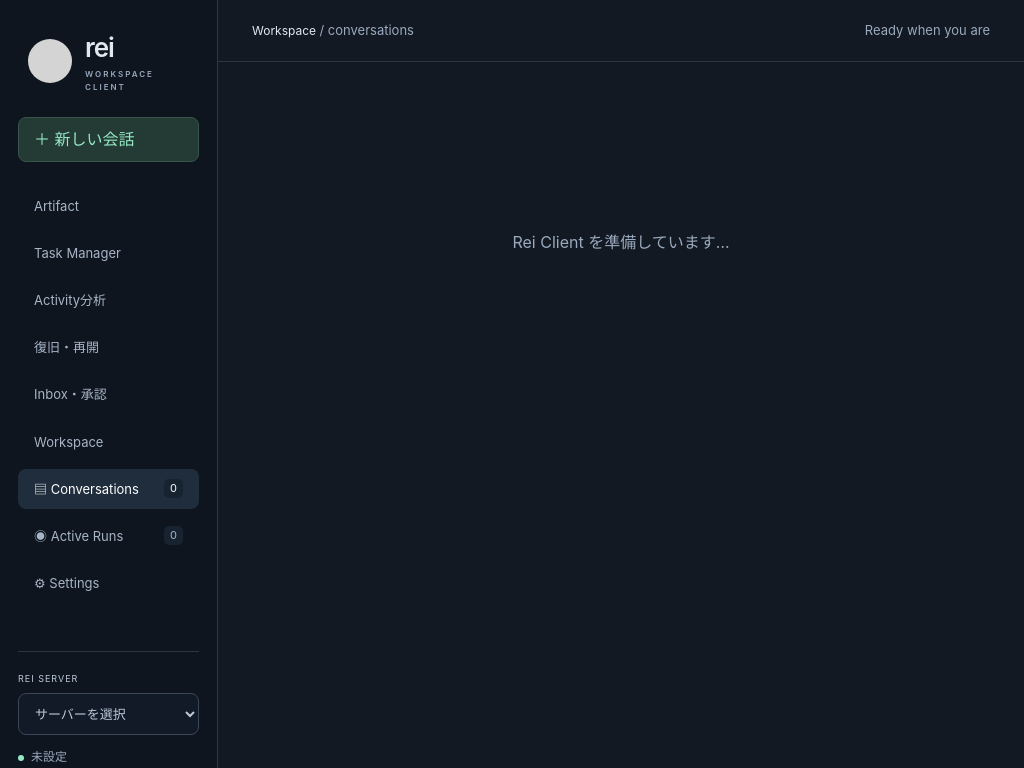
Test: opens a background run from Active Runs and retains cancellation-requested UI
Click the button "◉ Active Runs 0". click: (108, 536)
box: [18,516,199,556]
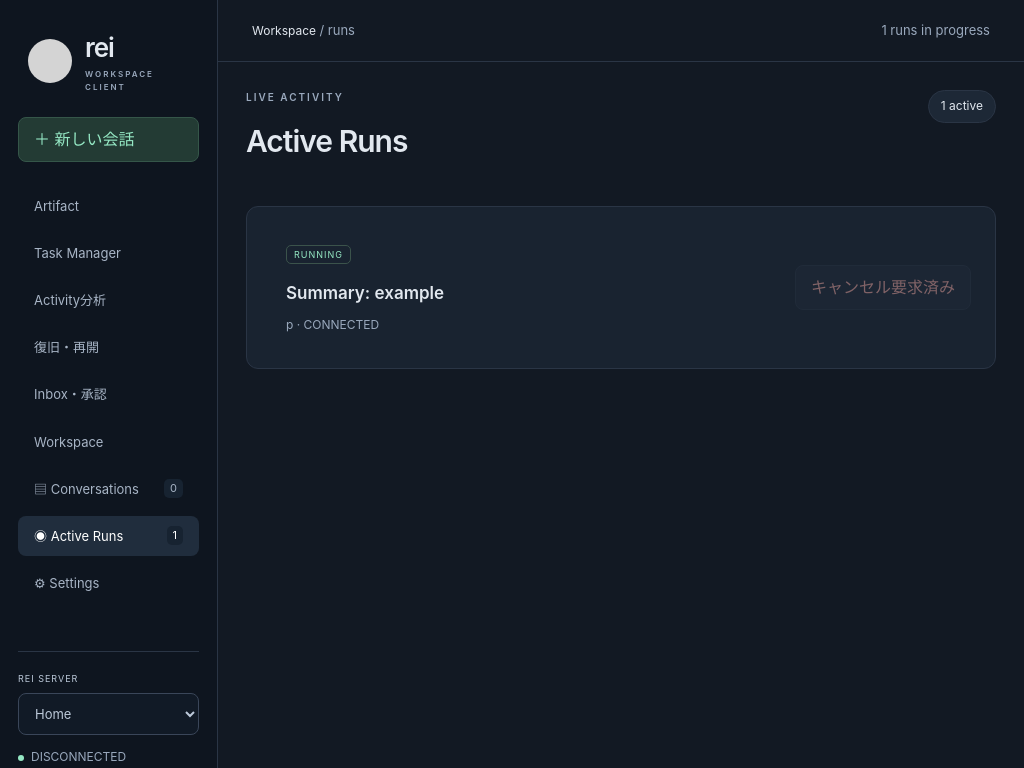
Expected: the button "キャンセル要求済み" is disabled, [795,265,971,310]
Click the button "RUNNING Summary: example p · CONNECTED". click: (318, 254)
box: [271,231,780,344]
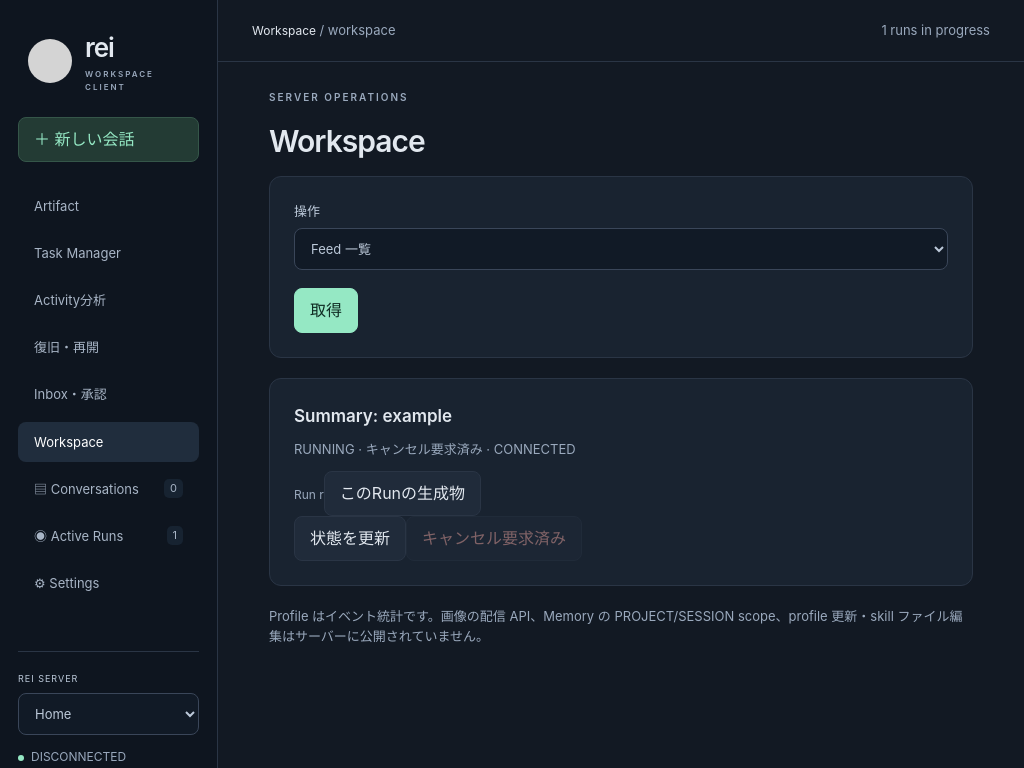
Expected: the heading "Summary: example" is shown, [294,406,452,426]
Expected: the dropdown labelled "操作" is shown, [294,228,948,270]
